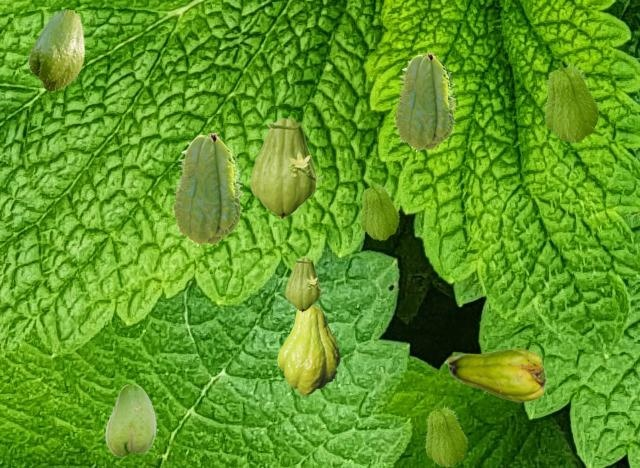sayote: (171, 132, 243, 247), (250, 118, 322, 218), (393, 52, 456, 152), (277, 305, 339, 394), (444, 348, 544, 401), (27, 9, 84, 91), (543, 60, 599, 142), (105, 384, 155, 456), (424, 403, 467, 466), (359, 181, 399, 239), (285, 257, 323, 311)
